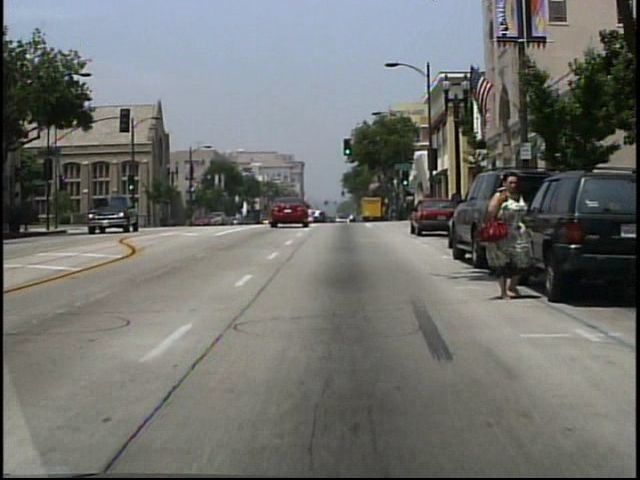person: (480, 172, 539, 302)
